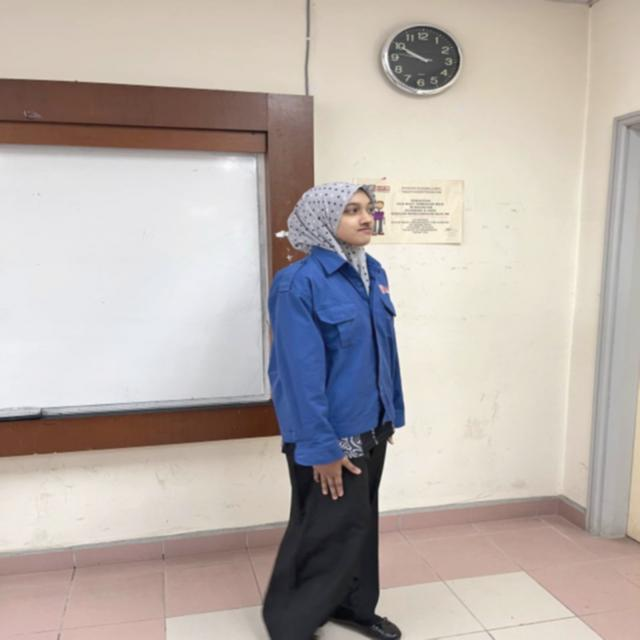person_with_labcoat: (262, 182, 404, 640)
